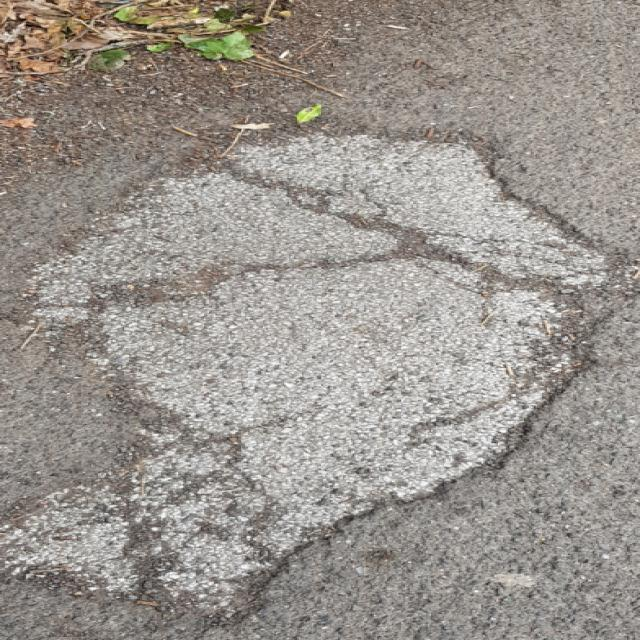pothole: (0, 109, 630, 629)
